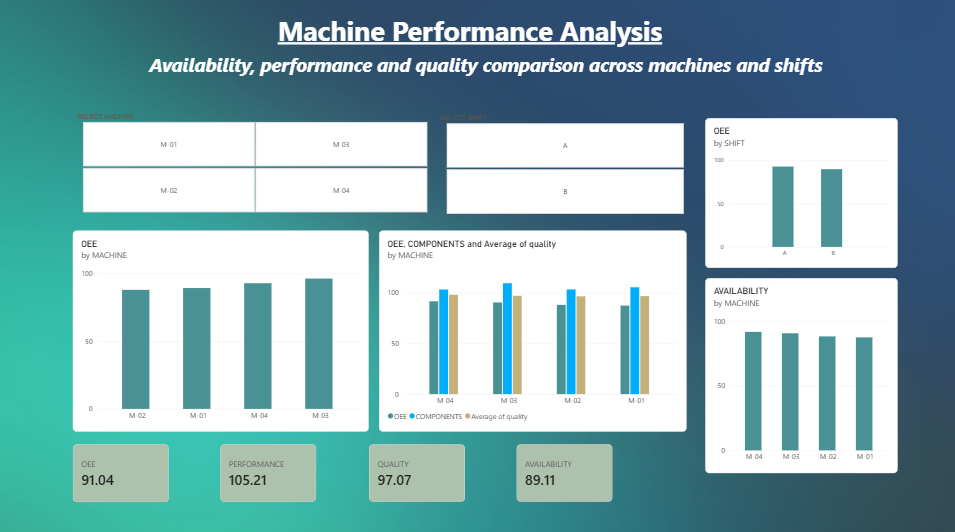

Layout of this report page (visuals, bound fields, positions):
{"tool":"powerbi","page":{"name":"OEE & Machine Analysis","canvas":[1920,1080],"ordinal":1},"visuals":[{"type":"clusteredColumnChart","fields":{"Category":["vw_oee_analysis.machine_id"],"Y":["Avg(vw_oee_analysis.availability)","Avg(vw_oee_analysis.performance)","Avg(vw_oee_analysis.quality)"]},"box":[760,465,615,402.5],"z":0},{"type":"clusteredColumnChart","fields":{"Category":["vw_oee_analysis.machine_id"],"Y":["Avg(vw_oee_analysis.OEE)"]},"box":[147.5,465,592,402],"z":1000},{"type":"slicer","fields":{"Values":["vw_oee_analysis.shift"]},"box":[875,230,513.3,203.3],"z":2000},{"type":"slicer","fields":{"Values":["vw_oee_analysis.machine_id"]},"box":[147.5,227.5,727.5,202.5],"z":3000},{"type":"textbox","box":[556.7,26.7,816.7,80],"z":4000},{"type":"textbox","box":[297.5,107.5,1352.5,150],"z":5000},{"type":"cardVisual","fields":{"Data":["Avg(vw_oee_analysis.OEE)"]},"box":[147.5,892.5,192,116],"z":6000},{"type":"cardVisual","fields":{"Data":["Avg(vw_oee_analysis.availability)"]},"box":[1035,892.5,192.5,115],"z":7000},{"type":"cardVisual","fields":{"Data":["Avg(vw_oee_analysis.performance)"]},"box":[442.5,892.5,192.5,115],"z":8000},{"type":"cardVisual","fields":{"Data":["Avg(vw_oee_analysis.quality)"]},"box":[740,892.5,192.5,115],"z":9000},{"type":"clusteredColumnChart","fields":{"Category":["vw_oee_analysis.shift"],"Y":["Avg(vw_oee_analysis.OEE)"]},"box":[1412.5,240,385,300],"z":10000},{"type":"clusteredColumnChart","fields":{"Category":["vw_oee_analysis.machine_id"],"Y":["Avg(vw_oee_analysis.availability)"]},"box":[1412.5,560,385,390],"z":11000}]}

Visuals, with their boxes in screenshot pixels (x1, y1, x2, y2), scaled from the page's 1920x1080 canvas onto the 955x532 screenshot:
clusteredColumnChart - vw_oee_analysis.machine_id x Avg(vw_oee_analysis.availability): (378, 229, 684, 427)
clusteredColumnChart - vw_oee_analysis.machine_id x Avg(vw_oee_analysis.OEE): (73, 229, 368, 427)
slicer - vw_oee_analysis.shift: (435, 113, 691, 213)
slicer - vw_oee_analysis.machine_id: (73, 112, 435, 212)
textbox: (277, 13, 683, 53)
textbox: (148, 53, 821, 127)
cardVisual - Avg(vw_oee_analysis.OEE): (73, 440, 169, 497)
cardVisual - Avg(vw_oee_analysis.availability): (515, 440, 611, 496)
cardVisual - Avg(vw_oee_analysis.performance): (220, 440, 316, 496)
cardVisual - Avg(vw_oee_analysis.quality): (368, 440, 464, 496)
clusteredColumnChart - vw_oee_analysis.shift x Avg(vw_oee_analysis.OEE): (703, 118, 894, 266)
clusteredColumnChart - vw_oee_analysis.machine_id x Avg(vw_oee_analysis.availability): (703, 276, 894, 468)
